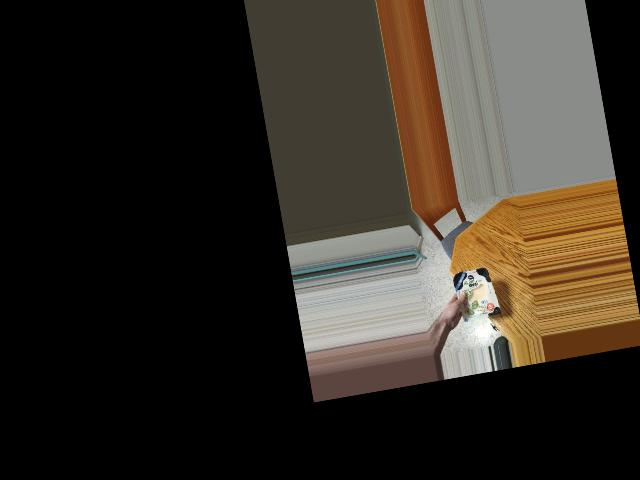cheese: (447, 260, 496, 332)
